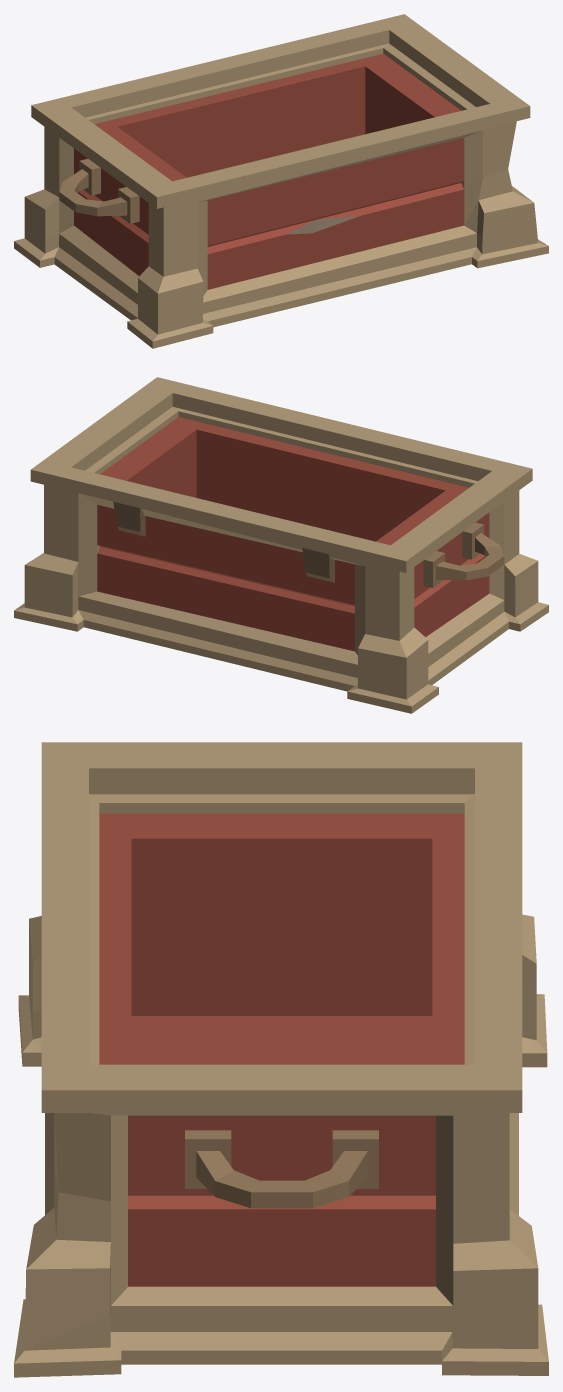
The model's file is SM_Prop_Chest_03.glb.
3 views of the same model, one above another, from view 1: azimuth 30°, elevation 25°; view 2: azimuth 150°, elevation 25°; view 3: azimuth 270°, elevation 25° (orthographic). The views are drawn at different scales.
Parts seen in each view (by area): view 1: SM_Prop_Chest_03; view 2: SM_Prop_Chest_03; view 3: SM_Prop_Chest_03.
Boxes of the visible parts, bbox=[...] form: SM_Prop_Chest_03: bbox=[14, 14, 548, 348]; SM_Prop_Chest_03: bbox=[14, 377, 548, 713]; SM_Prop_Chest_03: bbox=[14, 742, 548, 1377].
Size of the model in its own units: 0.0127 by 0.00413 by 0.00724.
Materials: 1 (1 with a texture image).
